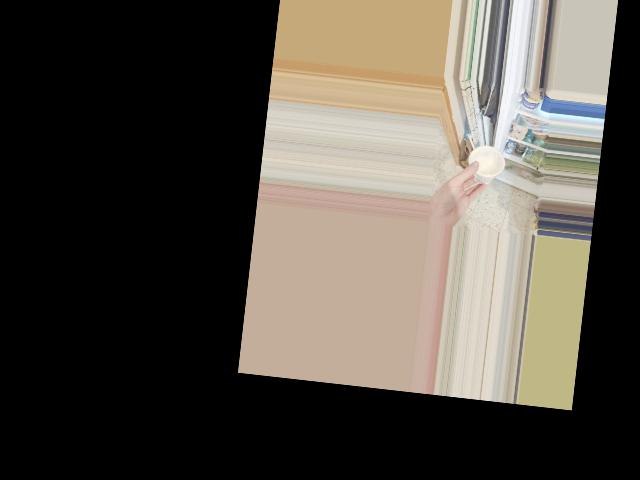cotage: (462, 143, 500, 188)
